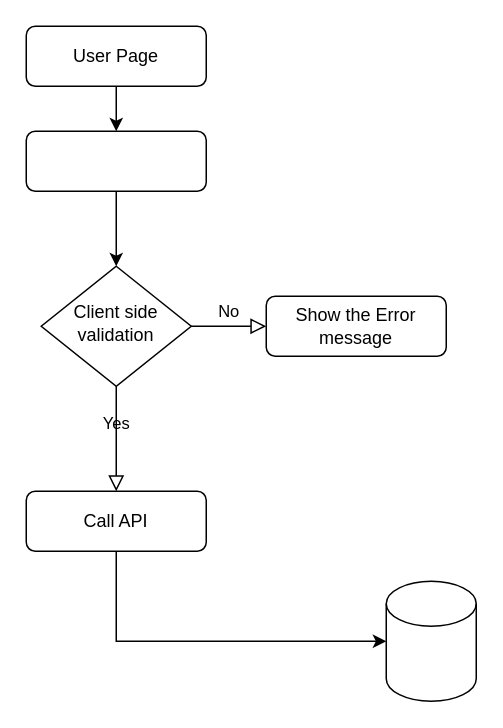
The diagram is 503 pixels wide and 728 high, and some of its shapes have lost their labels. The shapes that lost their labels are listed below. From the top down, each one's centre as x and y in pixels, then its label:
At pixel 115 160: "Add New User".
At pixel 430 640: "MySQL".
